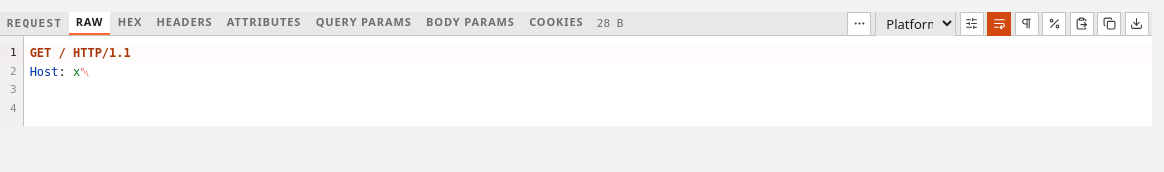
Scenario: the non-printing toggle › turning it on shows control characters and line-end markers together, and off removes both
The image size is (1164, 172).
Click the button named "Show non-printing characters" at (1027, 24), box top-left (1015, 12), bottom-right (1039, 36)
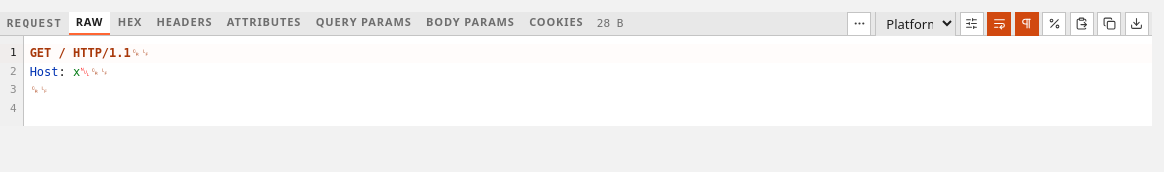
Expected: the field with class "cm-content" shows "␀", top-left (24, 44), bottom-right (1152, 97)
Now the field with class "cm-content" shows "␍␊", box top-left (24, 44), bottom-right (1152, 97)
Click the button named "Hide non-printing characters" at (1027, 24), box top-left (1015, 12), bottom-right (1039, 36)
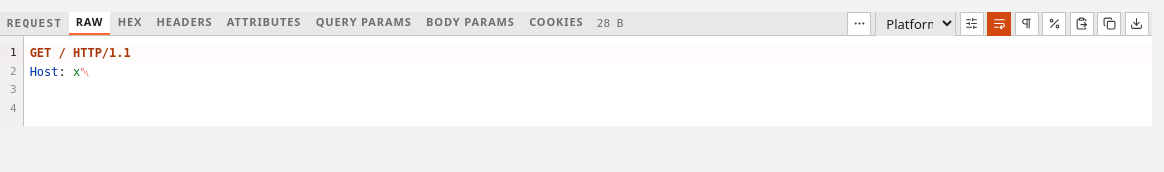
Now the text with class "cm-content" no longer shows "␍␊"
